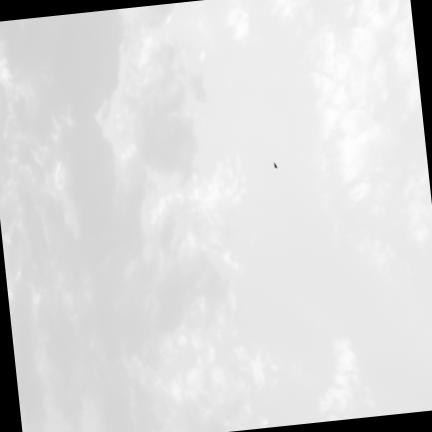Shahed: (273, 162, 277, 168)
